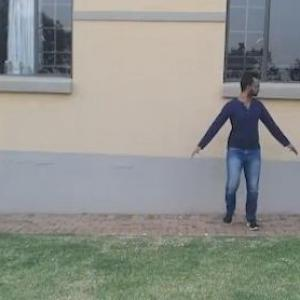land: (187, 65, 289, 237)
